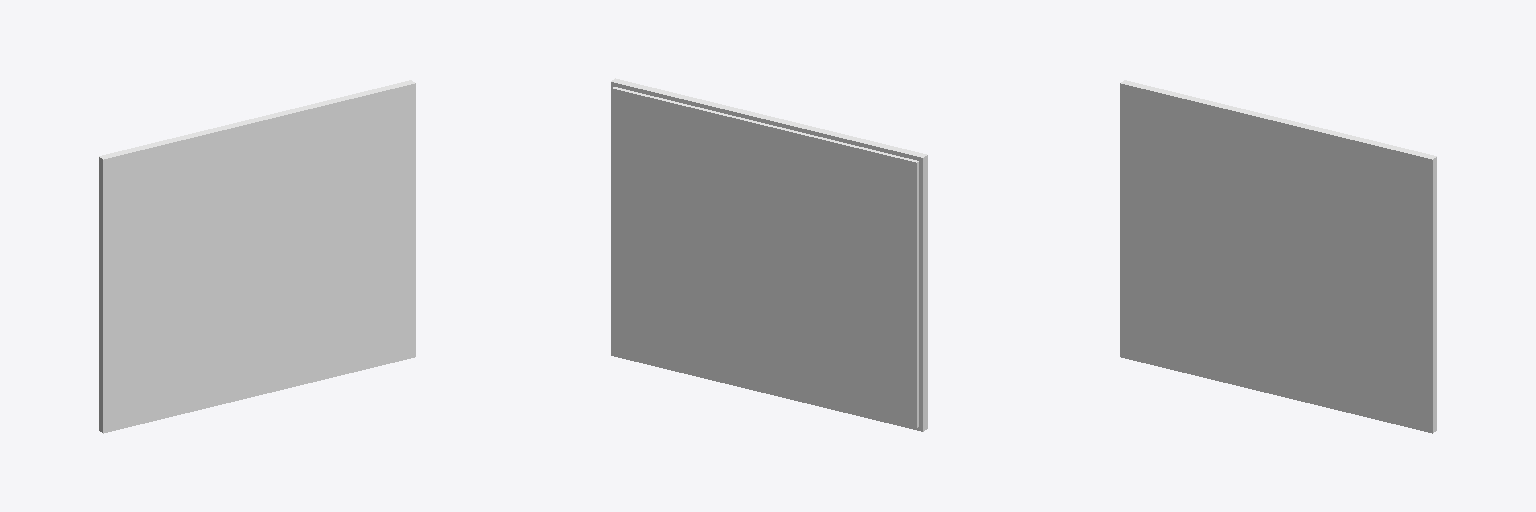
File: dom13.obj
The picture shows the model from 3 angles: view 1: azimuth 30°, elevation 25°; view 2: azimuth 150°, elevation 25°; view 3: azimuth 330°, elevation 25°; orthographic projection.
Parts seen in each view (by area): view 1: dom-11; view 2: dom-11; view 3: dom-11.
Boxes of the visible parts, box(x1,y1,x2,y2) form: dom-11: box(99, 80, 415, 433); dom-11: box(611, 78, 927, 431); dom-11: box(1120, 80, 1436, 433).
Size of the model in its own units: 8 by 6.7 by 0.3.